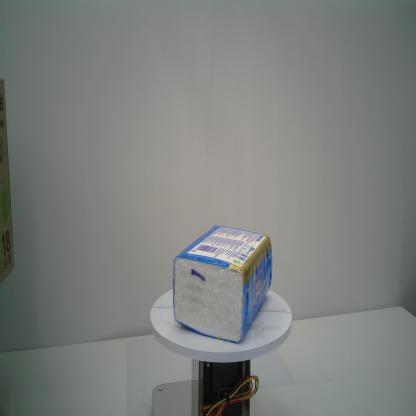Tissue: (172, 224, 274, 344)
